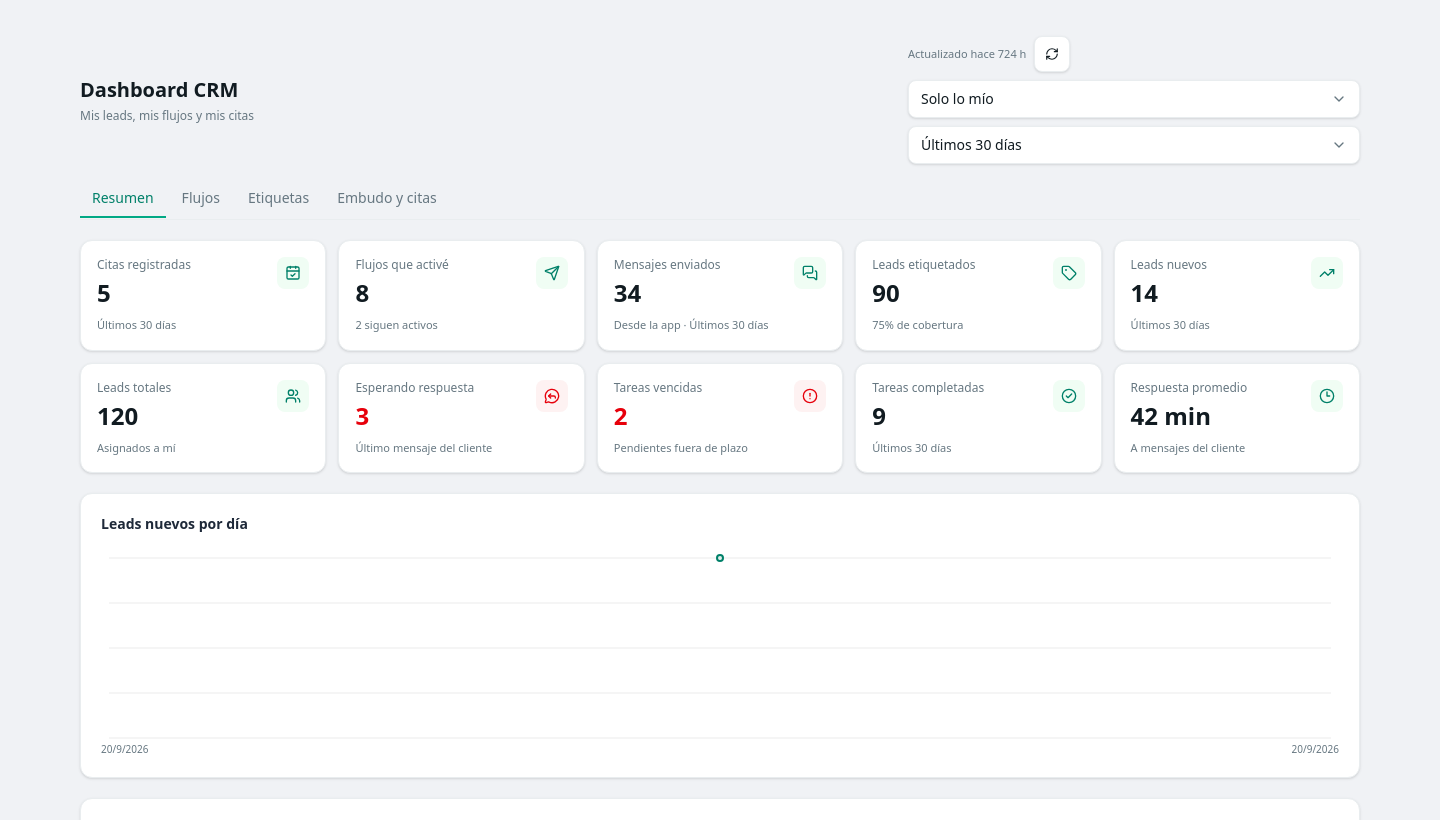
DashboardPage › avisa cuántas citas no llegaron a un lead
What coordinates should you click on to do the following:
click the tab "Embudo y citas"
I would click on:
 (387, 199)
Its box is [325,180,449,218].
(page scrolled)
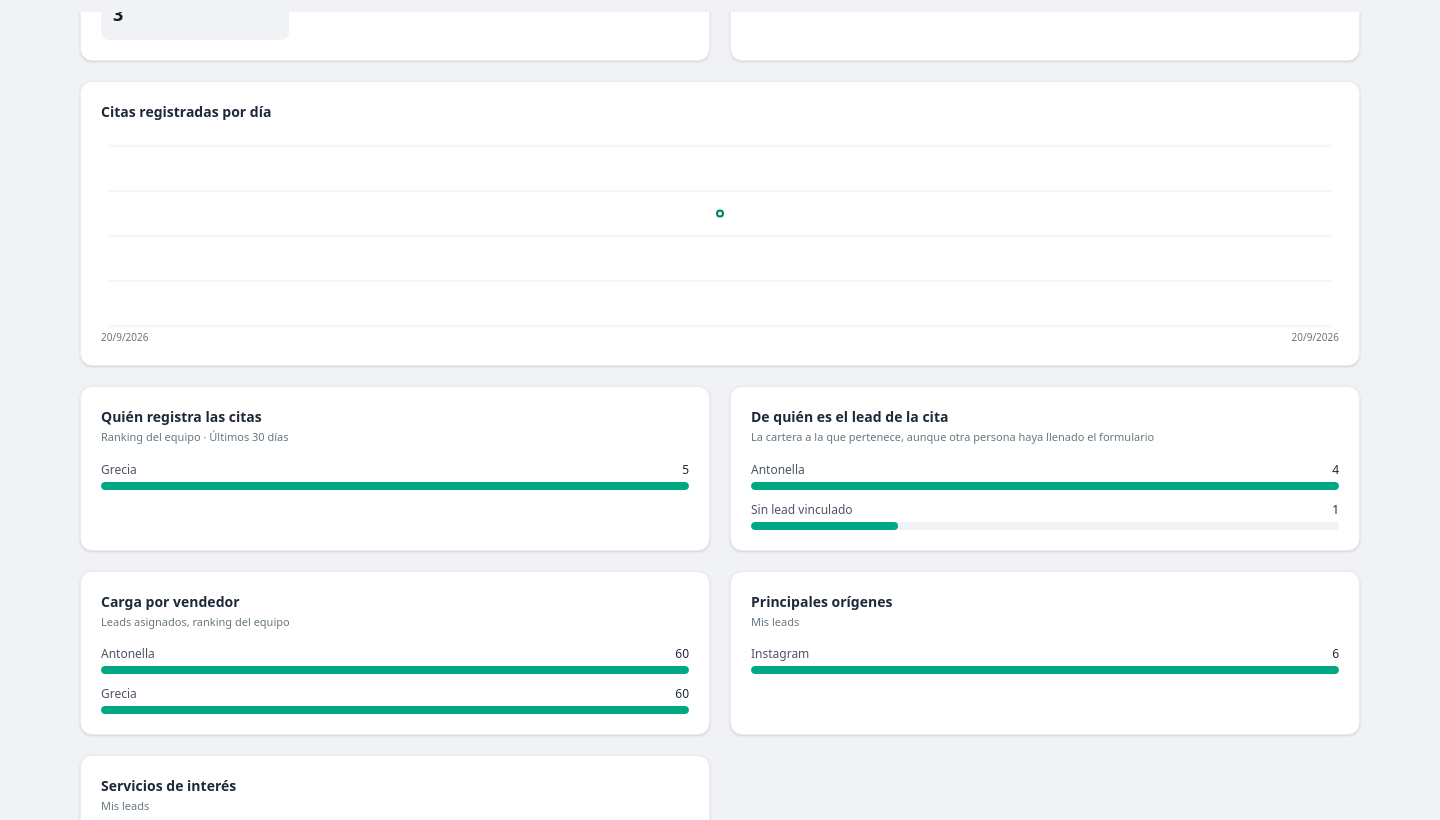
Expected: the heading "De quién es el lead de la cita" is shown, [751,407,948,426]
